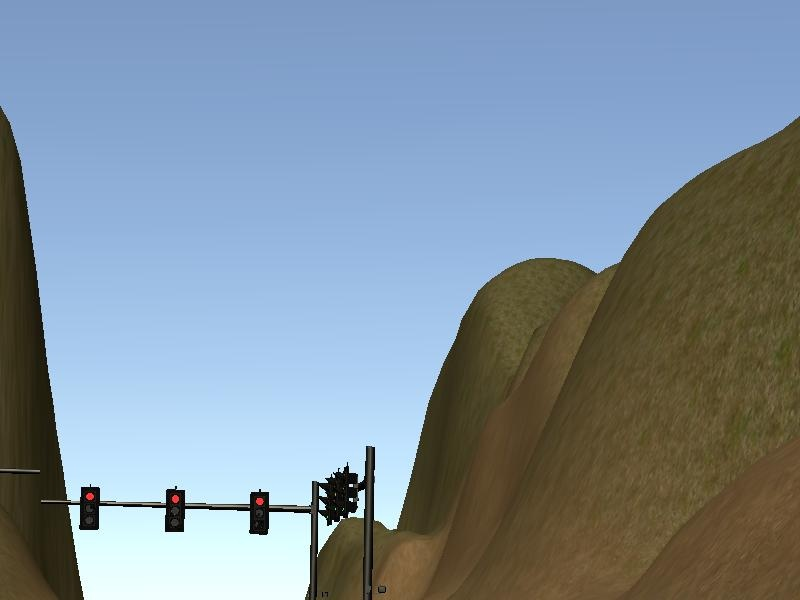traffic_light_red: (71, 485, 307, 535)
